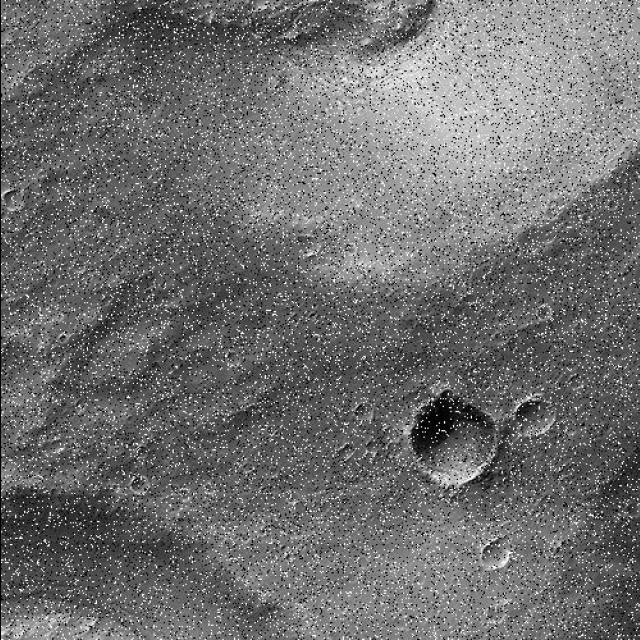crater: (84, 0, 640, 315), (0, 454, 396, 640), (407, 386, 498, 492), (0, 333, 50, 412), (604, 228, 640, 298), (510, 393, 556, 443), (116, 461, 162, 509), (523, 297, 560, 334), (475, 539, 513, 573), (606, 497, 640, 527), (0, 188, 27, 215), (627, 397, 640, 421)
